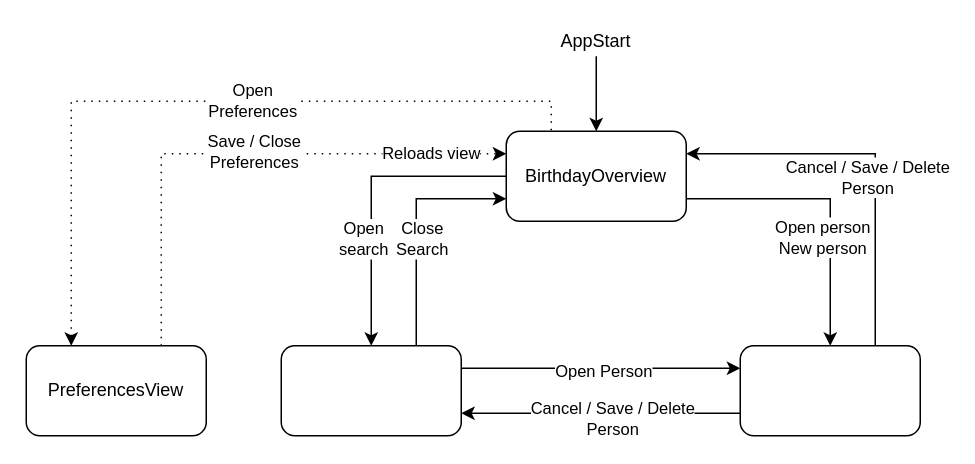
Image size: 975x464. Some labels were removed from this diagram. Each missing label, with the box of its shape:
EditBirthdayView: (739, 344, 920, 436)
SearchView: (280, 344, 461, 436)
